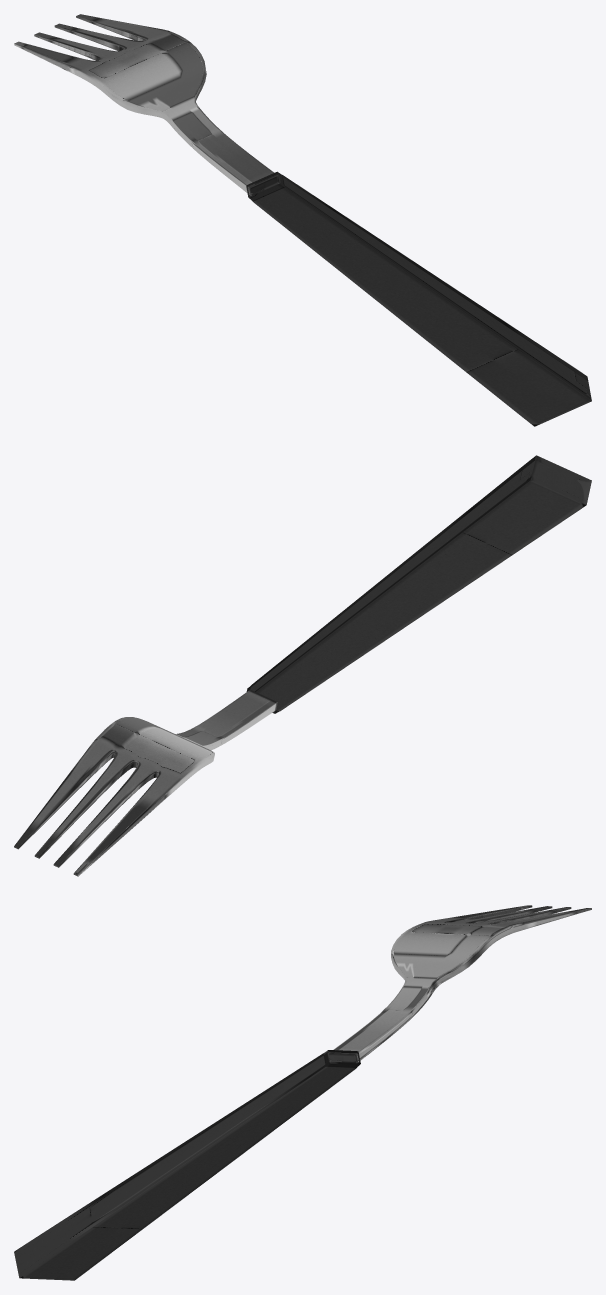
File: fork_1.obj
The picture shows the model from 3 angles, top to bottom: view 1: azimuth 30°, elevation 25°; view 2: azimuth 150°, elevation 25°; view 3: azimuth 330°, elevation 25°; orthographic projection. The views are drawn at different scales.
Bounding box in the file's own units: 0.1956 × 0.1294 × 1.9.
1 material, 1 textured.
